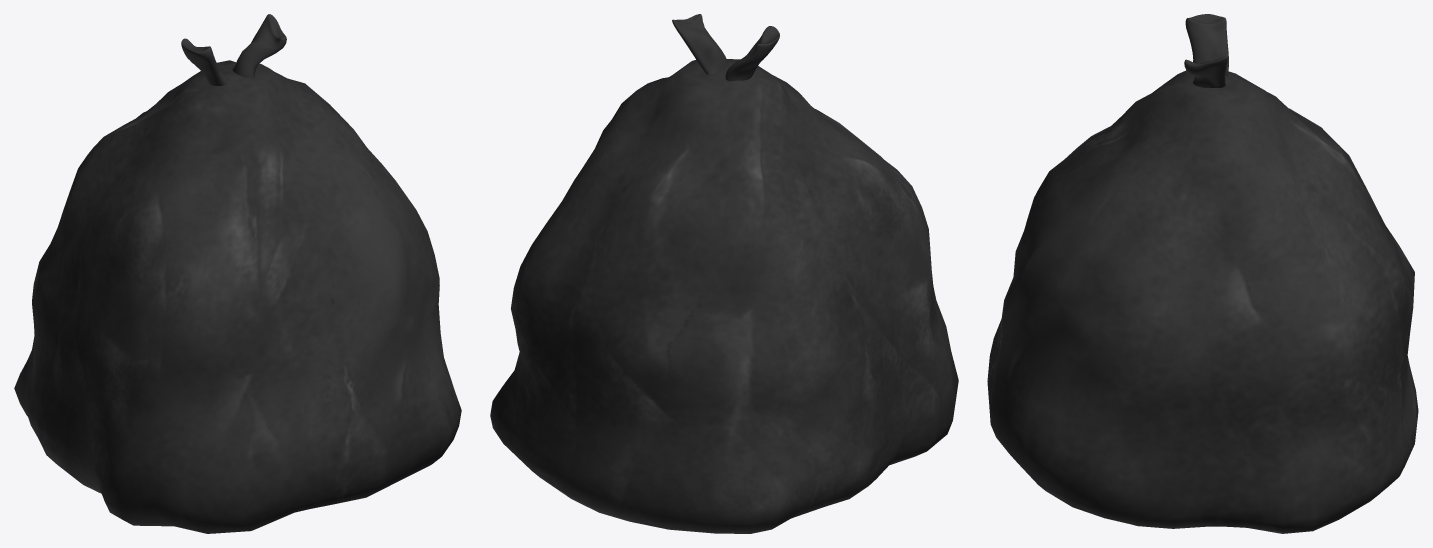
The model's file is garbage bag.fbx.
The picture shows the model from 3 angles, left to right: view 1: azimuth 30°, elevation 25°; view 2: azimuth 150°, elevation 25°; view 3: azimuth 270°, elevation 25°; orthographic projection.
Parts seen in each view (by area): view 1: garbage_bag; view 2: garbage_bag; view 3: garbage_bag.
Boxes of the visible parts, <box> form: garbage_bag: <box>14,14,461,533</box>; garbage_bag: <box>490,14,958,533</box>; garbage_bag: <box>987,14,1418,533</box>.
Bounding box in the file's own units: 231 × 281 × 244.
